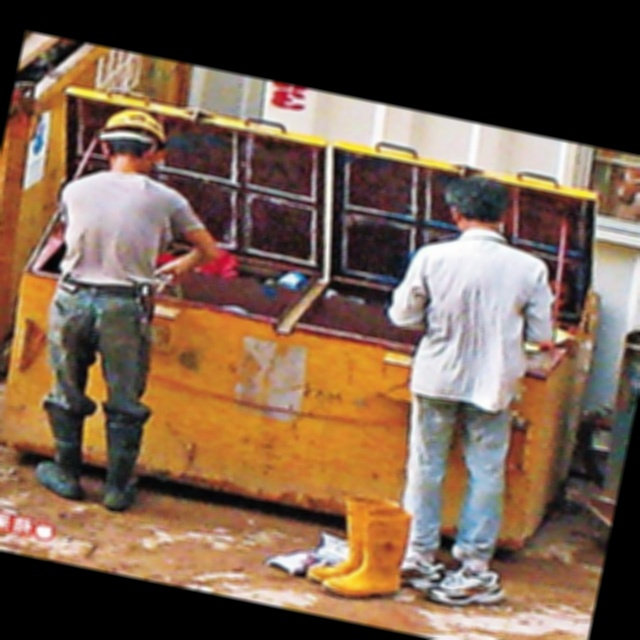Con_Casco: (89, 104, 170, 177)
Sin_Casco_Mascarrilla: (439, 171, 513, 235)
